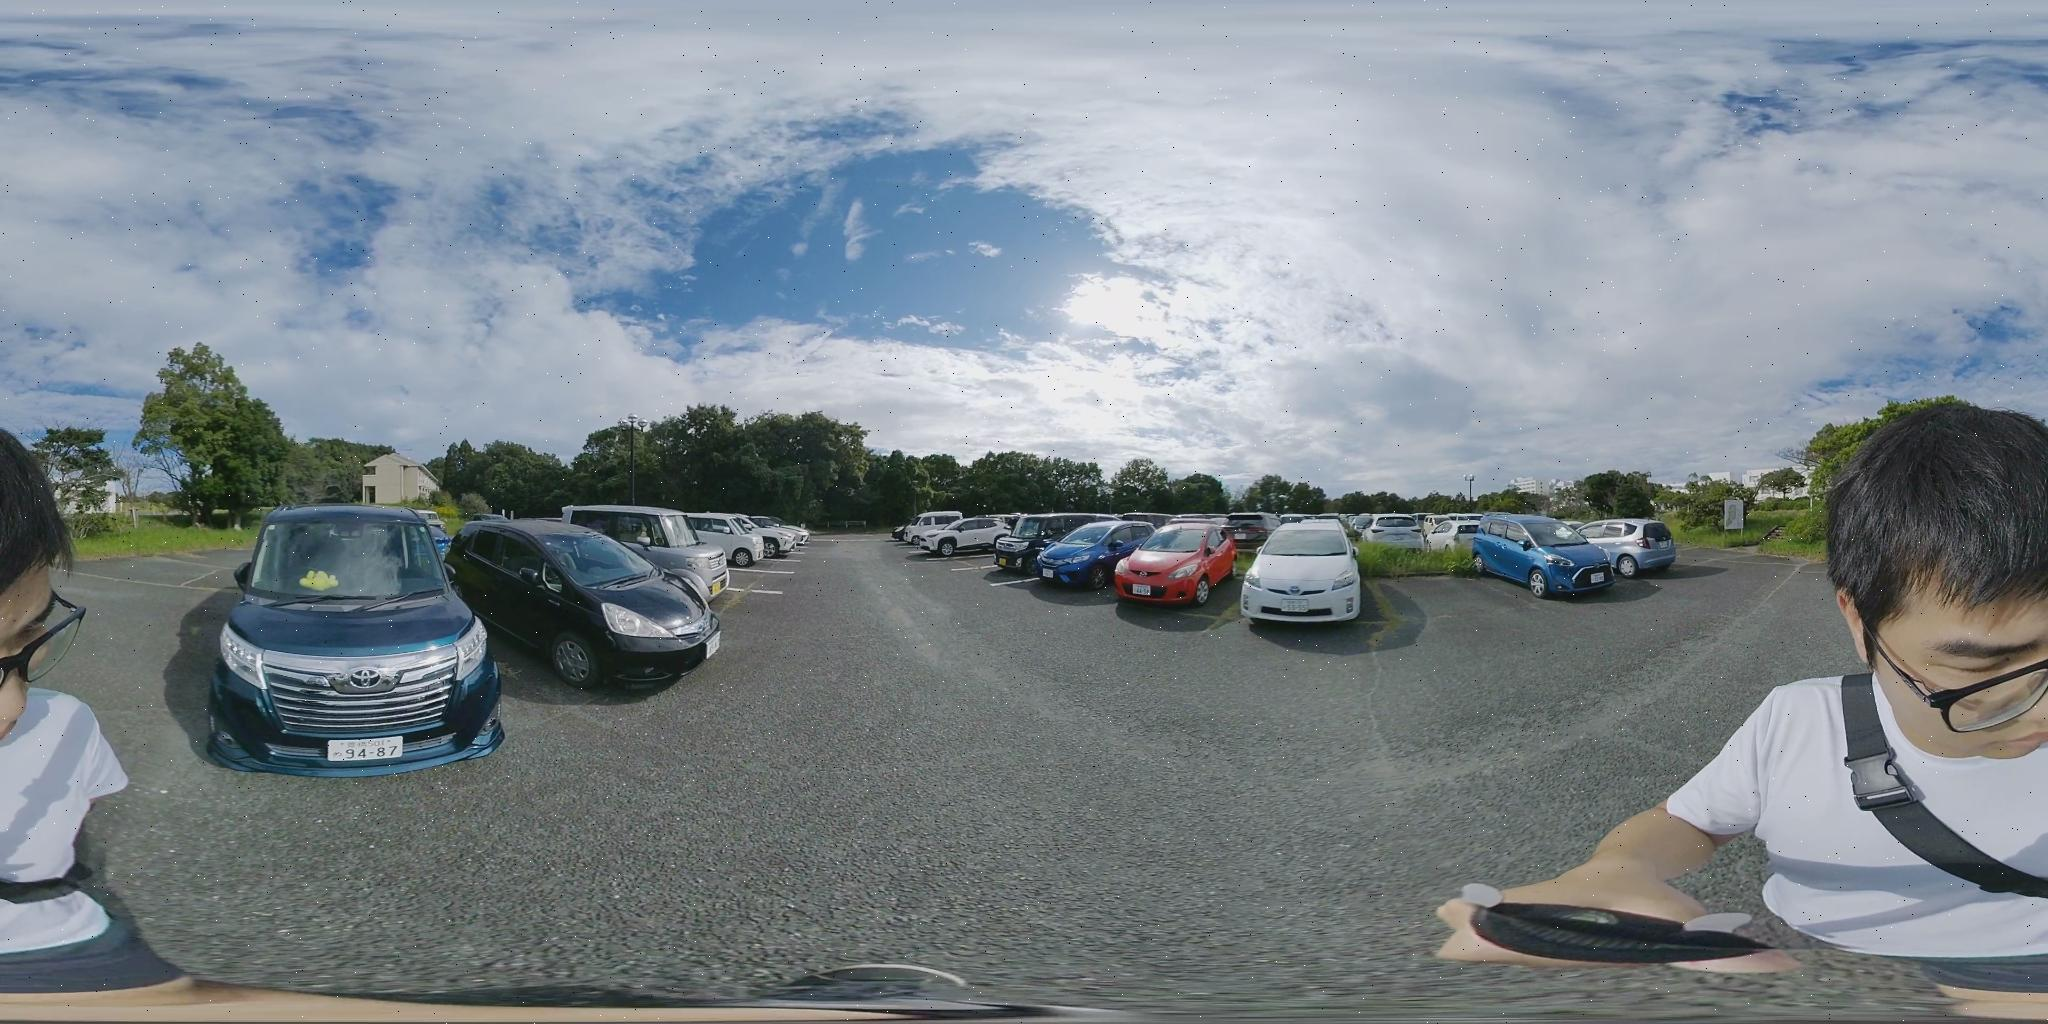car: (206, 505, 487, 777), (440, 517, 734, 699), (559, 505, 752, 597), (1242, 520, 1371, 626), (1475, 512, 1608, 598), (1113, 522, 1246, 603), (1031, 519, 1152, 586), (1575, 520, 1677, 575), (690, 513, 806, 559), (892, 512, 1006, 554)
